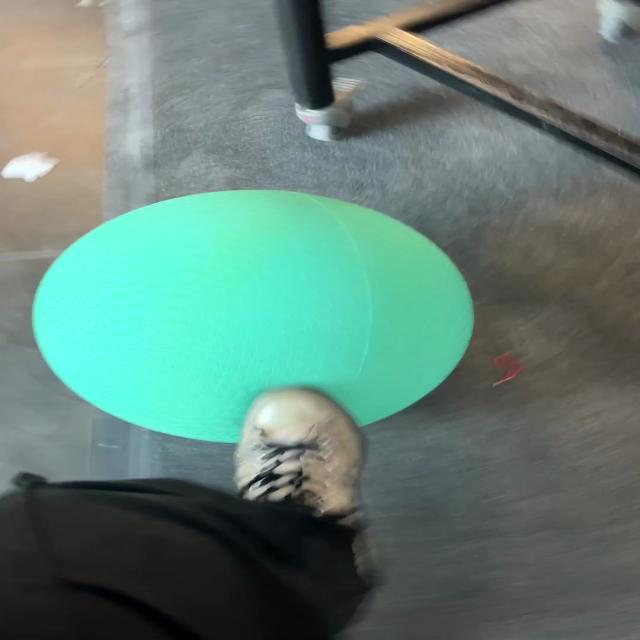Algae: (30, 188, 475, 444)
